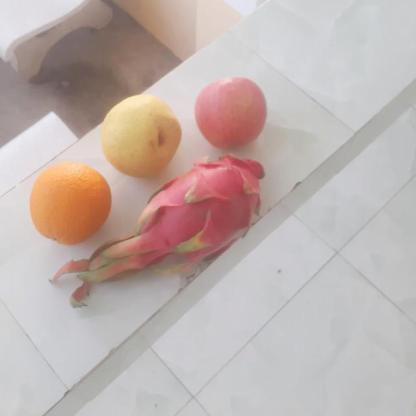apple: (193, 76, 271, 148)
orange: (30, 161, 114, 245)
pear: (99, 94, 186, 178)
pitaya: (146, 156, 269, 261)
